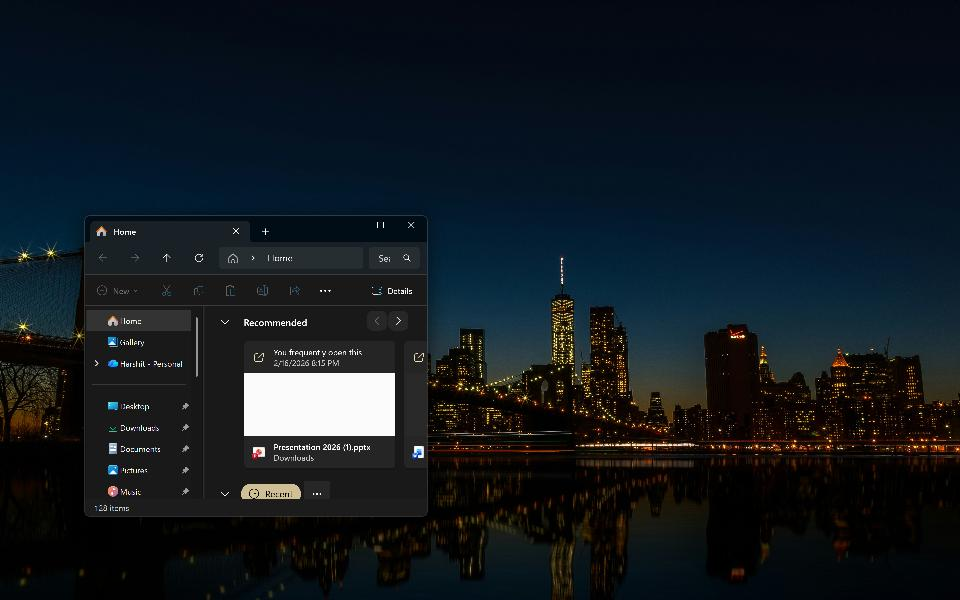close_button: (404, 217, 422, 239)
maximize_button: (369, 218, 393, 237)
minimize_button: (339, 217, 362, 237)
